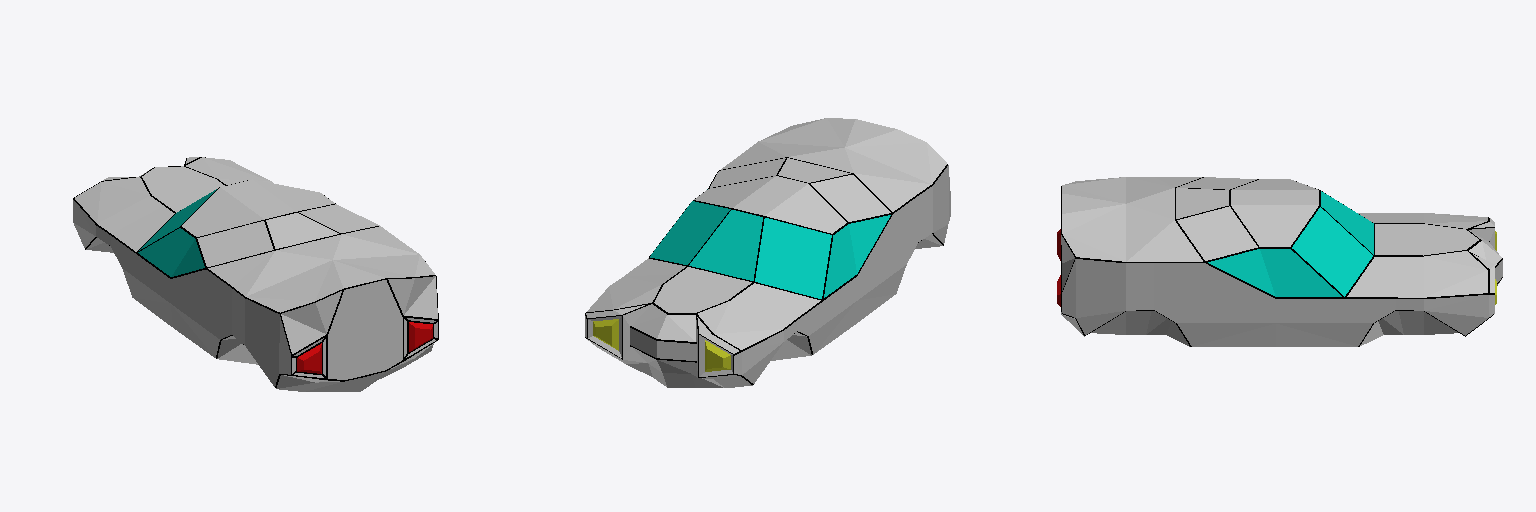
File: turtle.obj
3 views of the same model, side by side, from view 1: azimuth 30°, elevation 25°; view 2: azimuth 150°, elevation 25°; view 3: azimuth 270°, elevation 25° (orthographic).
Visible parts, largest first — view 1: Cube.039_Cube.038; view 2: Cube.039_Cube.038; view 3: Cube.039_Cube.038.
Boxes of the visible parts, box(x1,y1,x2,y2) form: Cube.039_Cube.038: box(73, 157, 438, 391); Cube.039_Cube.038: box(585, 118, 950, 387); Cube.039_Cube.038: box(1057, 177, 1502, 346).
Size of the model in its own units: 1.99 by 1.26 by 4.36.